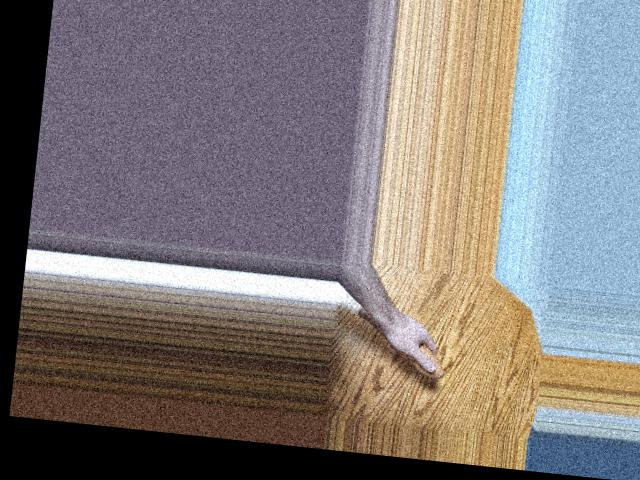sweet_potato: (350, 308, 451, 381)
